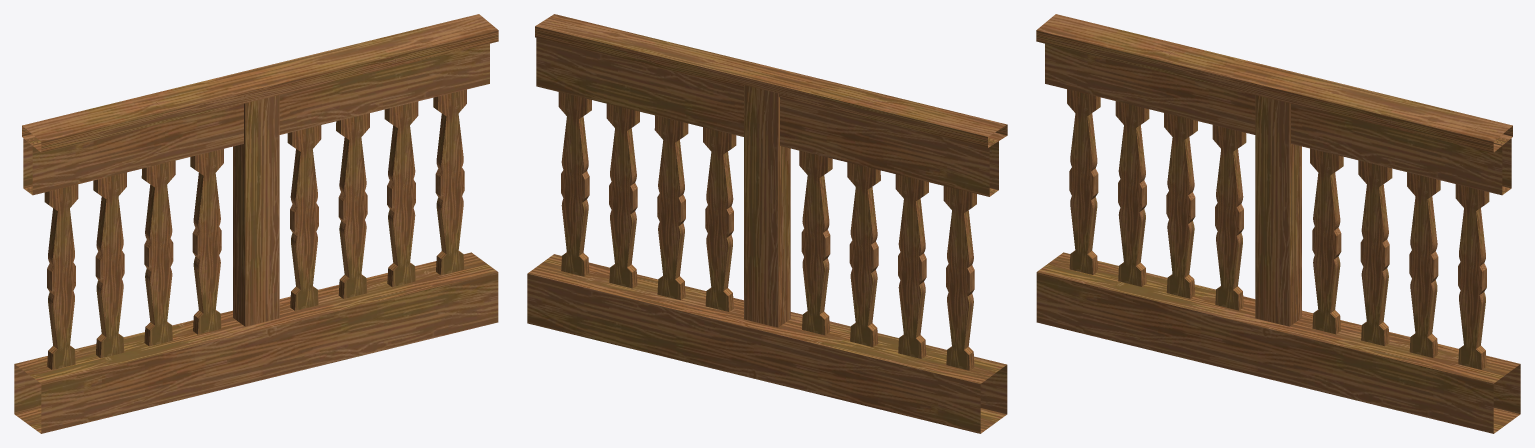
Rendered from med-sacada.gltf.
The picture shows the model from 3 angles, left to right: view 1: azimuth 30°, elevation 25°; view 2: azimuth 150°, elevation 25°; view 3: azimuth 330°, elevation 25°; orthographic projection.
Parts seen in each view (by area): view 1: Balcony_Simple_Straight; view 2: Balcony_Simple_Straight; view 3: Balcony_Simple_Straight.
Part boxes in pixels (left/top/right/bottom): Balcony_Simple_Straight: left=14, top=14, right=498, bottom=433; Balcony_Simple_Straight: left=527, top=14, right=1007, bottom=433; Balcony_Simple_Straight: left=1036, top=14, right=1520, bottom=433.
Bounding box in the file's own units: 1 × 0.6149 × 0.1032.
1 material, 1 textured.
